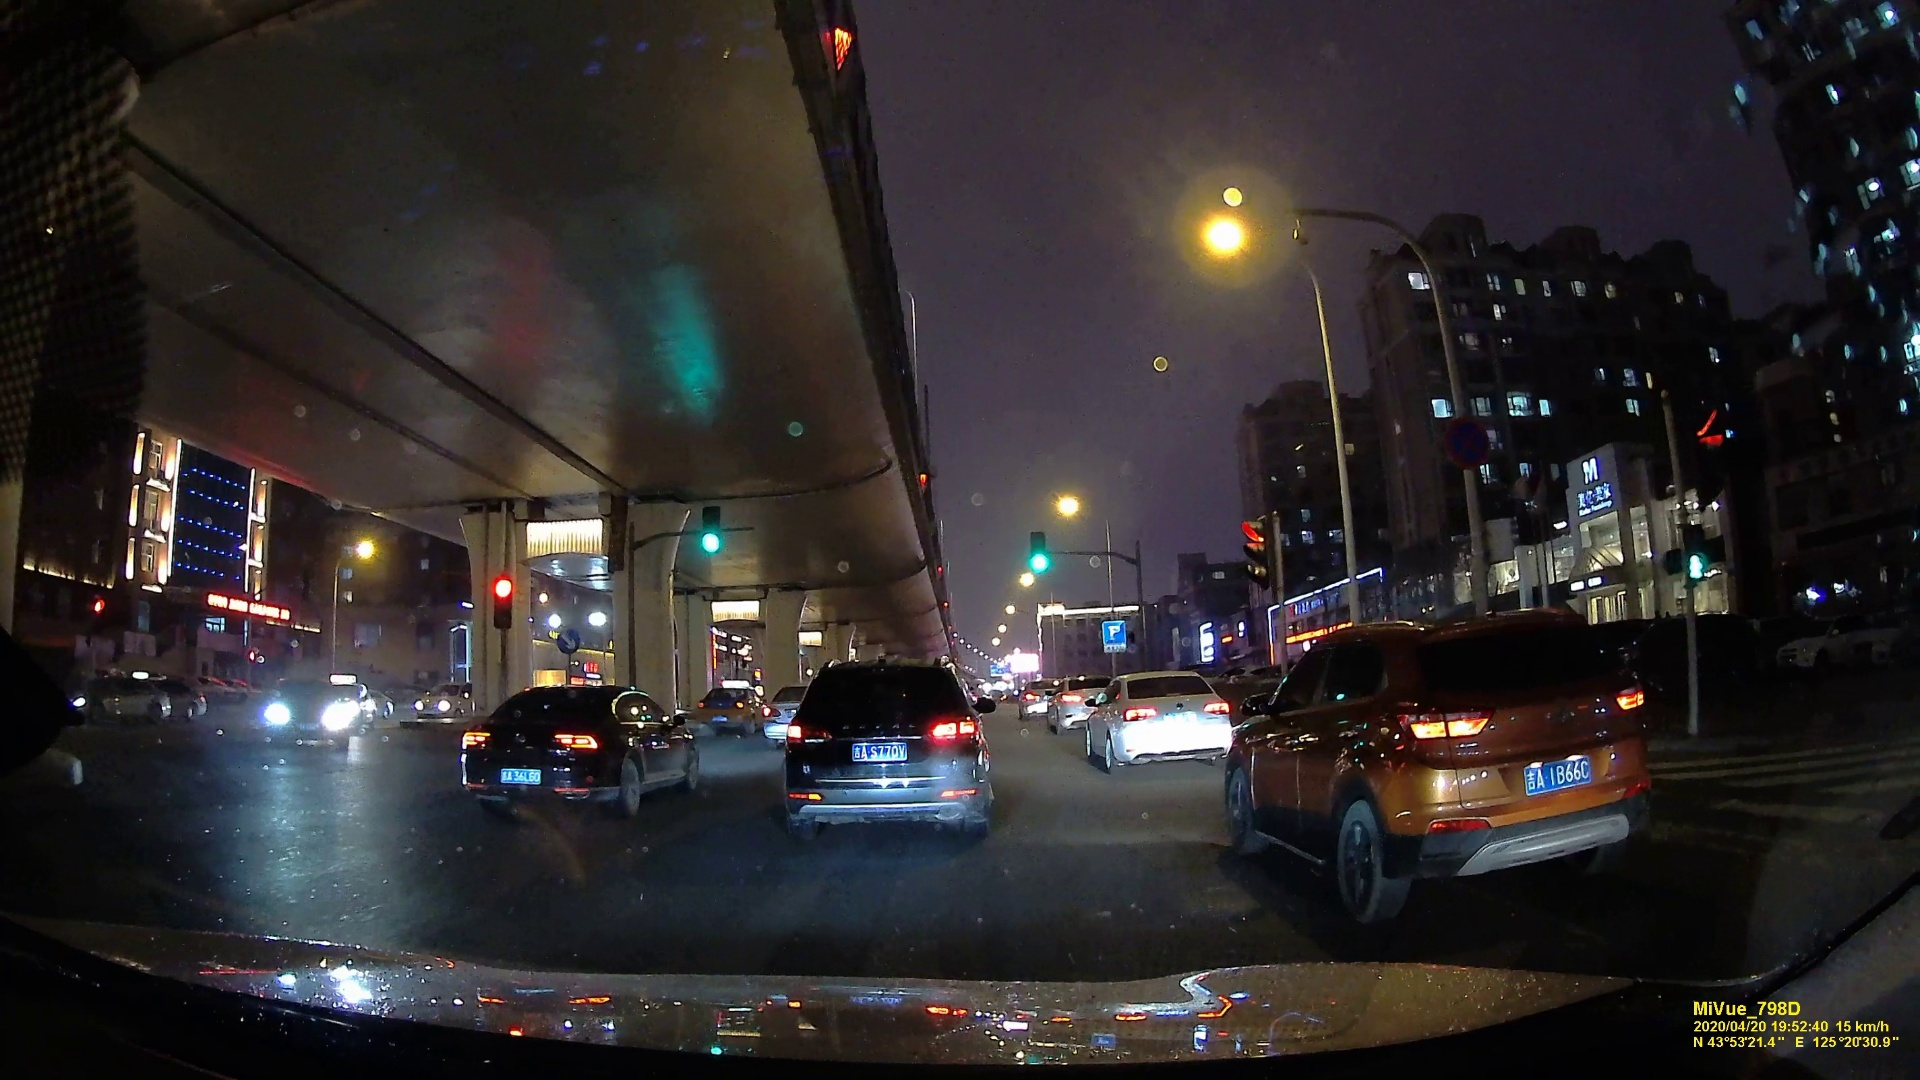traffic_sign: (1687, 397, 1730, 506), (1241, 520, 1275, 588), (1683, 524, 1708, 582), (492, 578, 517, 628), (702, 506, 721, 551), (1029, 529, 1048, 571), (553, 626, 579, 653), (1102, 620, 1125, 650)
vehicle: (1232, 603, 1640, 920), (771, 654, 996, 853), (455, 679, 699, 814), (1087, 669, 1230, 769), (256, 680, 382, 749), (695, 684, 765, 735), (1052, 678, 1106, 733), (406, 680, 473, 721), (1021, 682, 1050, 720)
